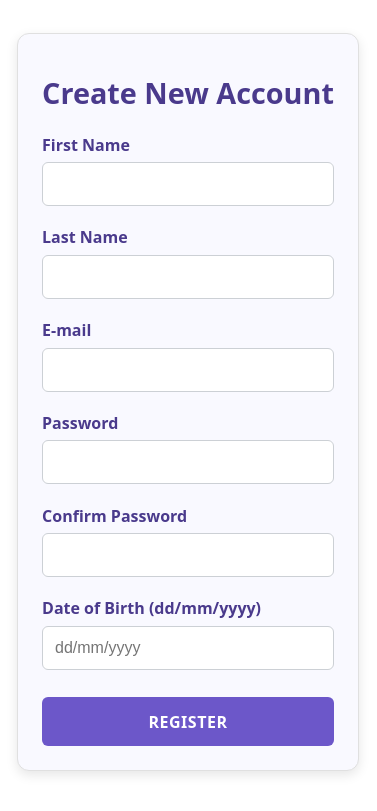
Test: Form Tests › shows email error
Type "invalid" into the field labelled "E-mail" at {"x": 188, "y": 370}, box [42,348,334,392]
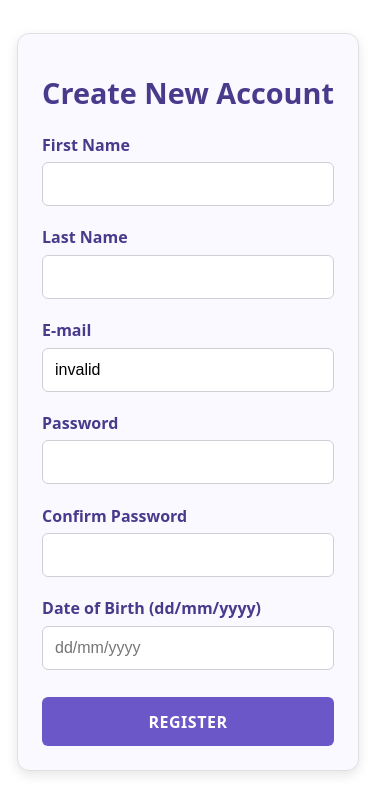
Click the button "REGISTER" at {"x": 188, "y": 722}, box [42,697,334,746]
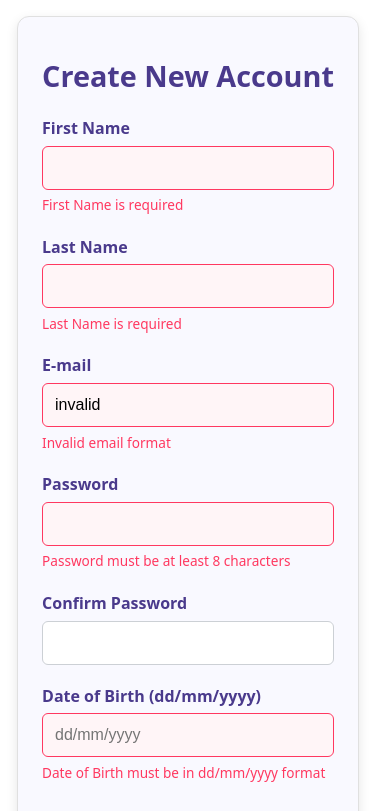
Now the text "Invalid email format" is shown, box [42,433,171,452]
